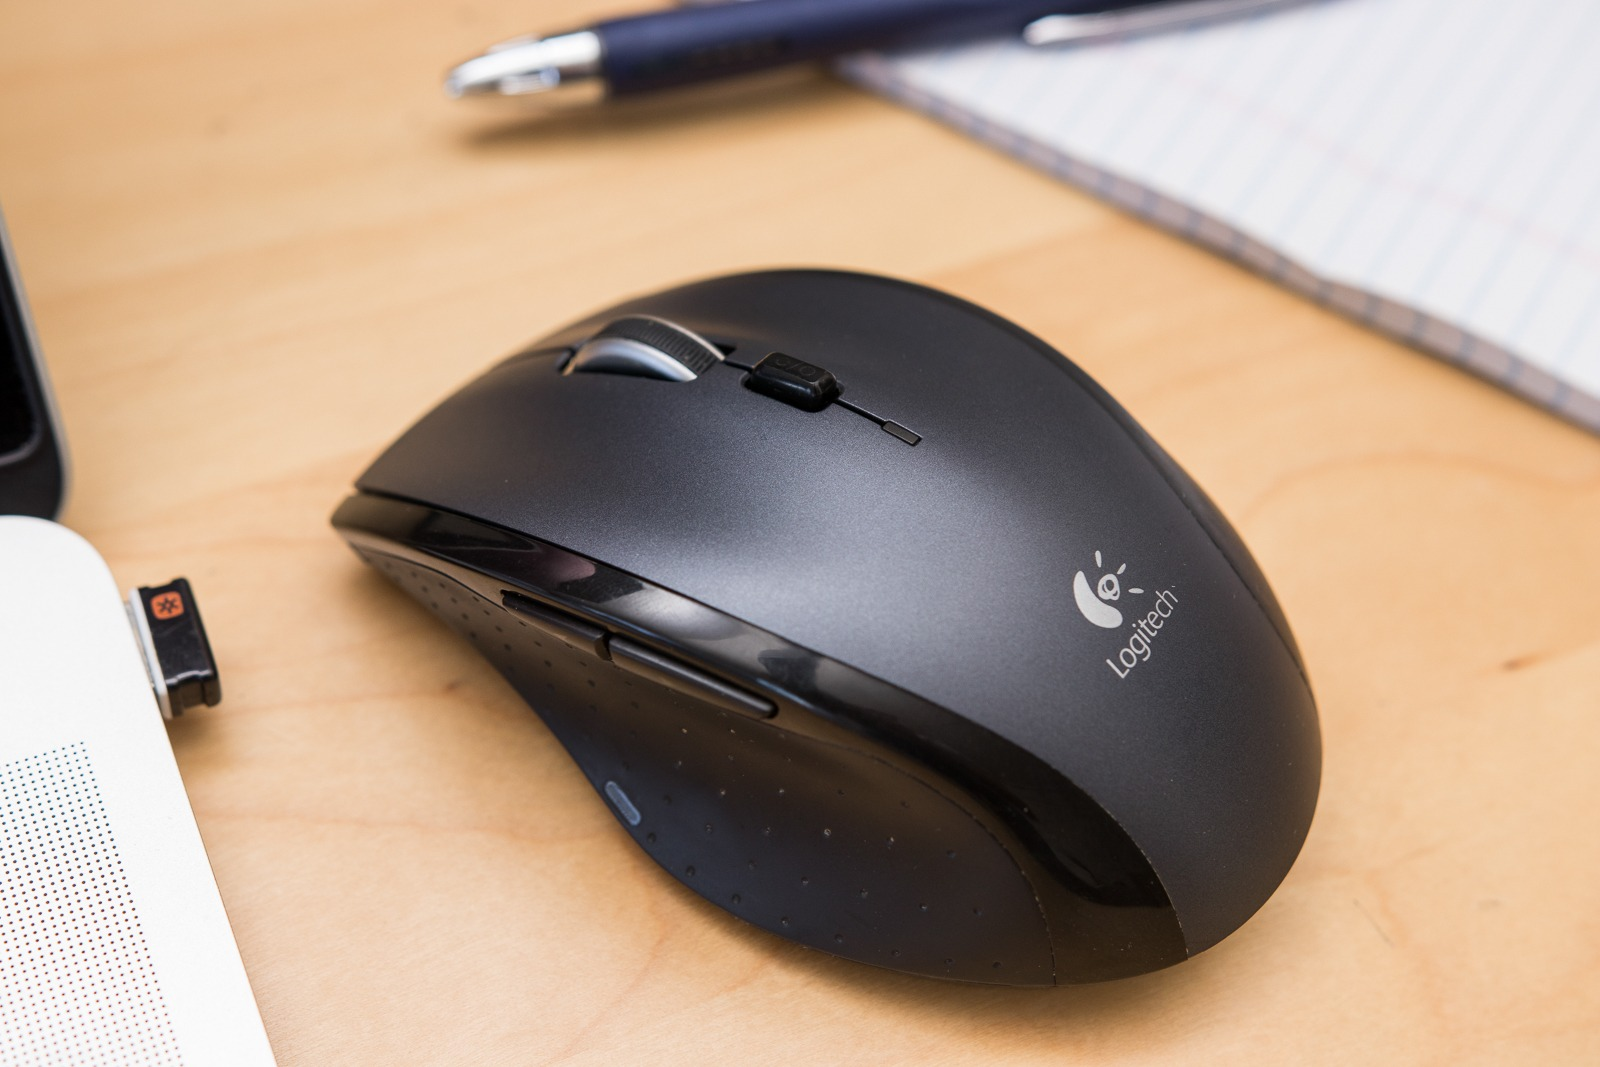mouse: (312, 260, 1335, 1016)
